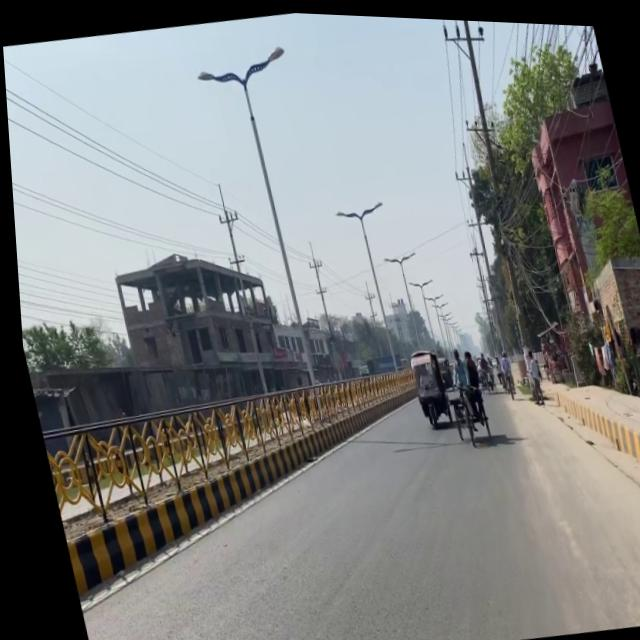Fallen-tree: (472, 360, 492, 389)
Garbage-bin: (517, 343, 543, 402)
Light-pole: (439, 15, 553, 359)
Pole: (36, 369, 378, 632)
Pothole: (559, 342, 640, 498)
Traffic-cone: (401, 343, 449, 427)
